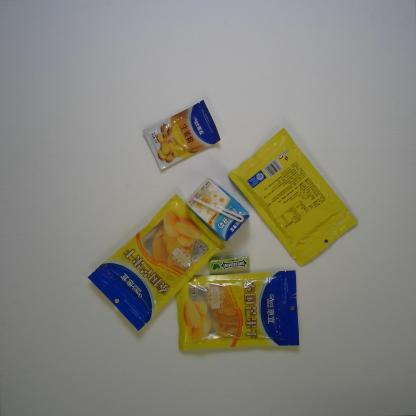Dried Fruit: (87, 194, 226, 331), (227, 127, 360, 267), (175, 270, 300, 352)
Gum: (208, 254, 250, 274)
Milk: (184, 176, 250, 242)
Seasoner: (142, 99, 221, 170)
